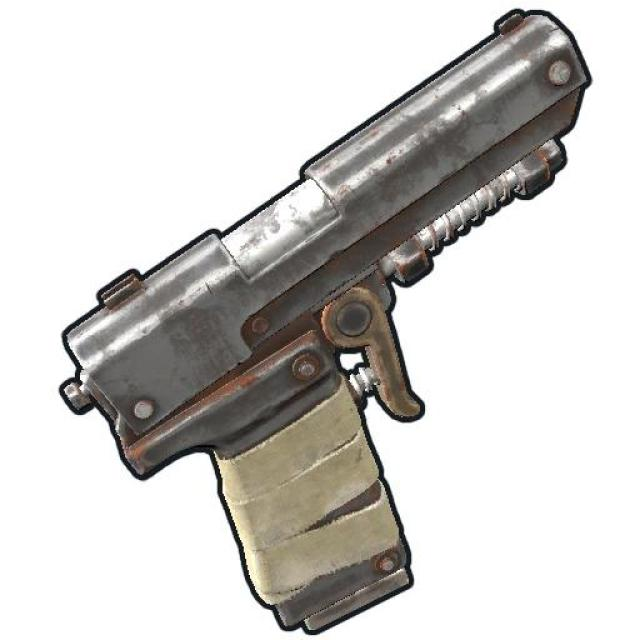pistol: (75, 7, 592, 625)
